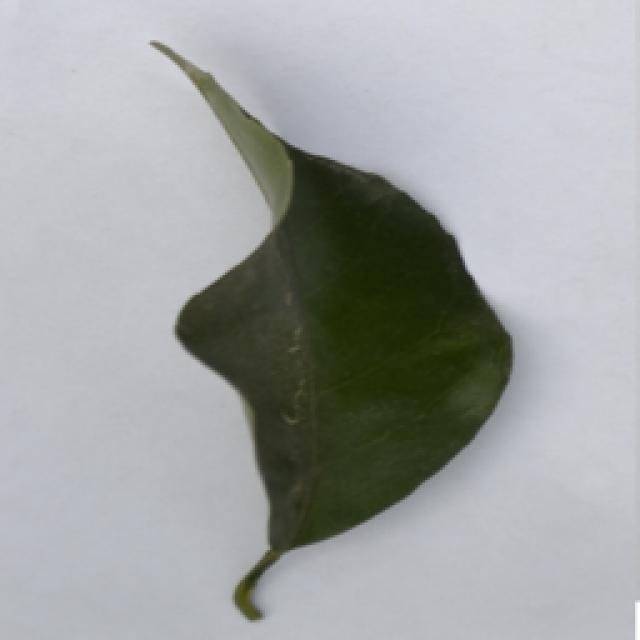healthy: (96, 31, 518, 618)
